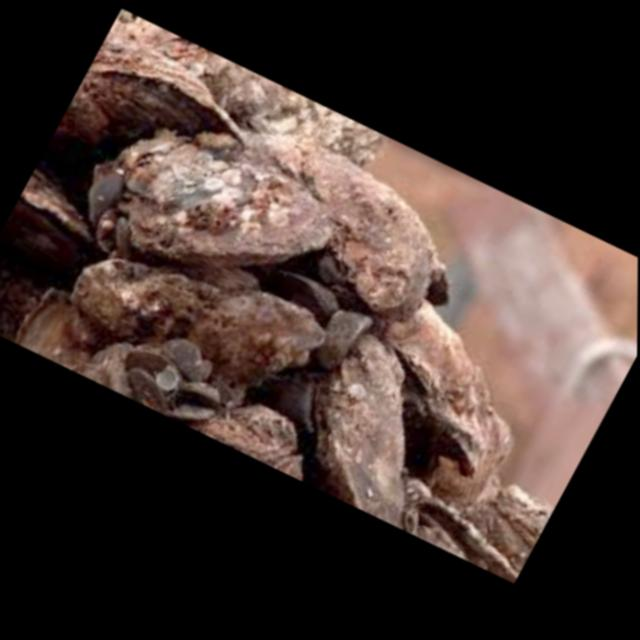Oyster-Closed: (53, 40, 243, 147)
Oyster-Indeterminate: (110, 9, 381, 166), (249, 136, 436, 318), (383, 301, 512, 507), (119, 141, 326, 259), (315, 334, 404, 525), (188, 292, 325, 407), (73, 259, 217, 348), (173, 233, 277, 316), (196, 405, 302, 480), (486, 484, 554, 573), (15, 288, 89, 369), (20, 170, 93, 243)
Oyster-Open: (97, 322, 207, 428), (159, 363, 231, 439)
